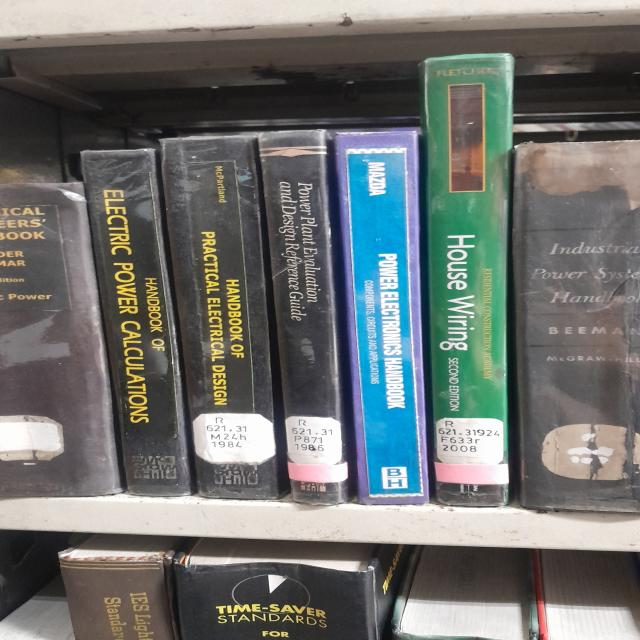book: (512, 140, 640, 513), (161, 136, 289, 499), (419, 53, 514, 505), (81, 149, 192, 496), (0, 183, 120, 499), (334, 131, 429, 504), (258, 130, 350, 505)
